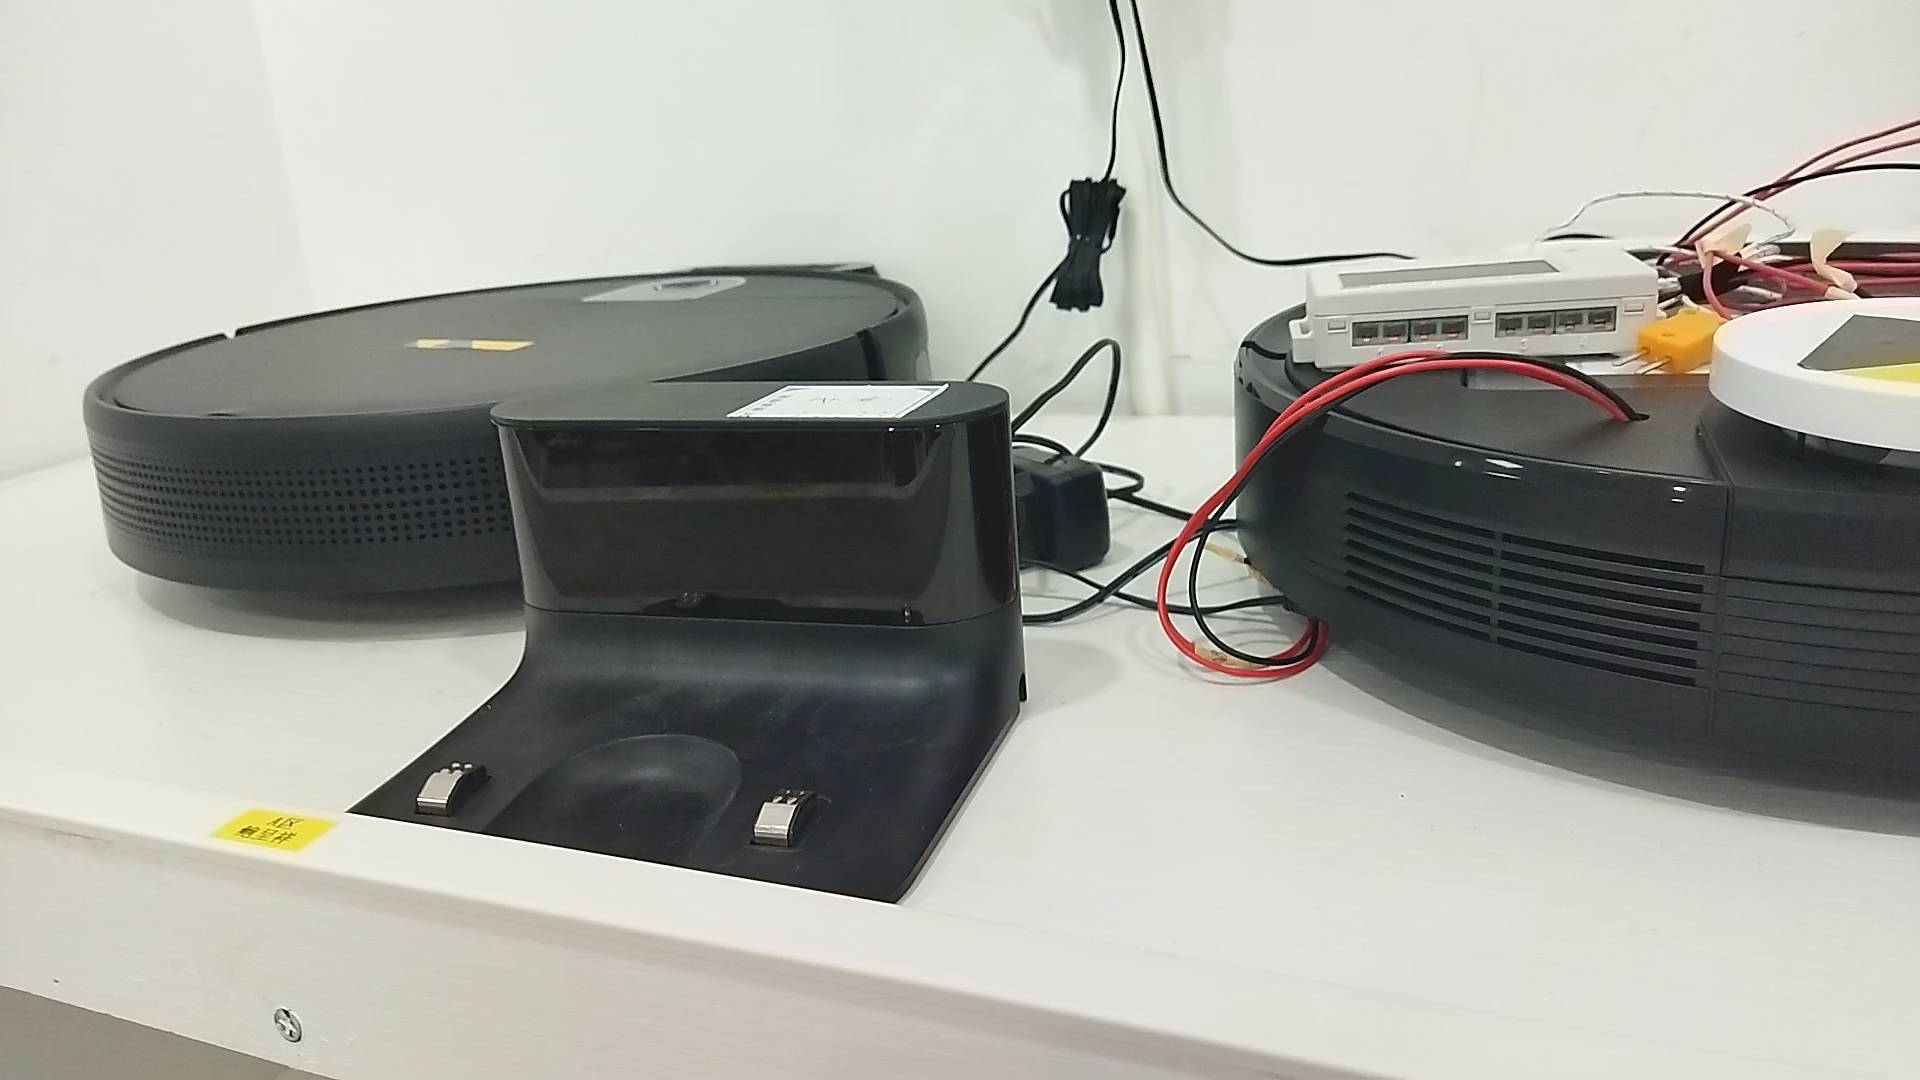recharge seat: (343, 378, 1031, 907)
